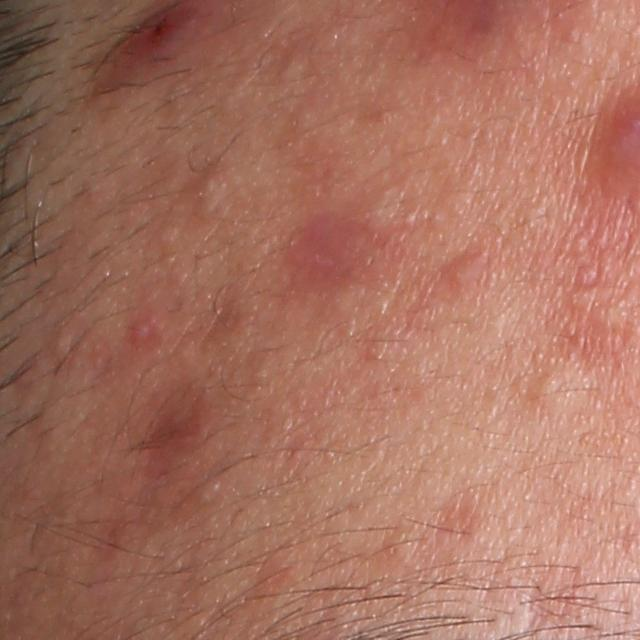comedo: (533, 370, 567, 403)
papule: (447, 245, 480, 297), (125, 317, 150, 347)
